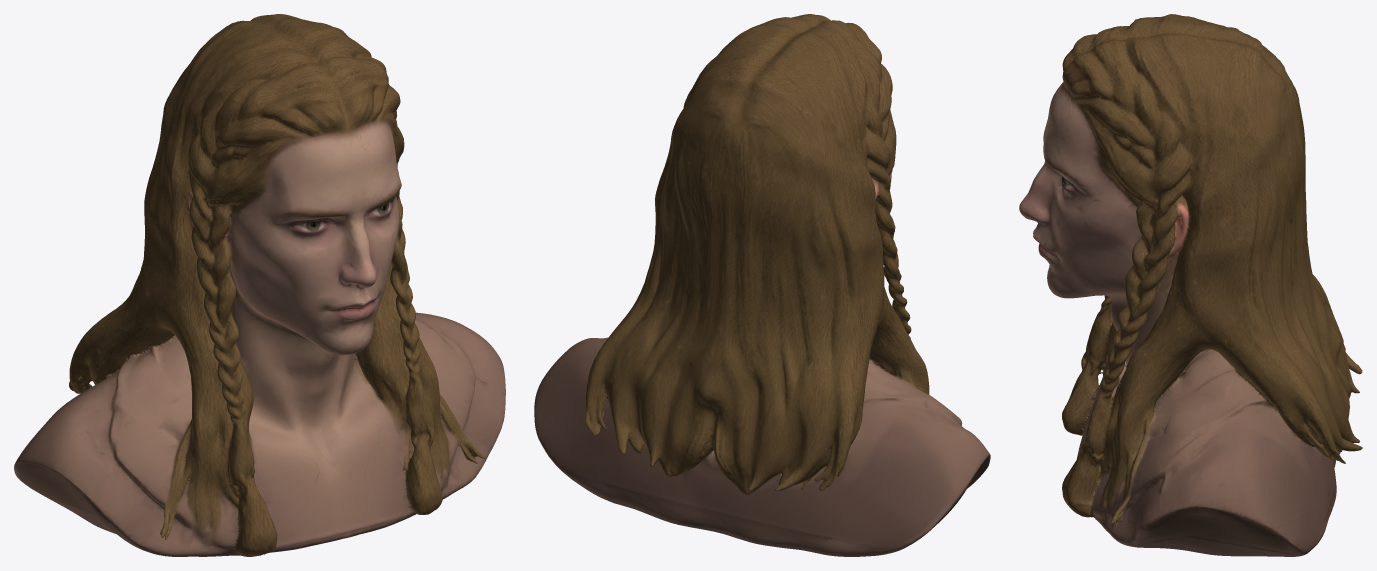
The model's file is godwyn_head_target.glb.
3 renders of one model, left to right at view 1: azimuth 30°, elevation 25°; view 2: azimuth 150°, elevation 25°; view 3: azimuth 270°, elevation 25°, orthographic. The views are drawn at different scales.
Visible parts, largest first — view 1: Mesh_0; view 2: Mesh_0; view 3: Mesh_0.
Part boxes in pixels (left/top/right/bottom): Mesh_0: left=14, top=14, right=505, bottom=556; Mesh_0: left=534, top=14, right=990, bottom=556; Mesh_0: left=1019, top=14, right=1362, bottom=556.
Size of the model in its own units: 1.89 by 1.9 by 1.29.
Materials: 1 (1 with a texture image).
